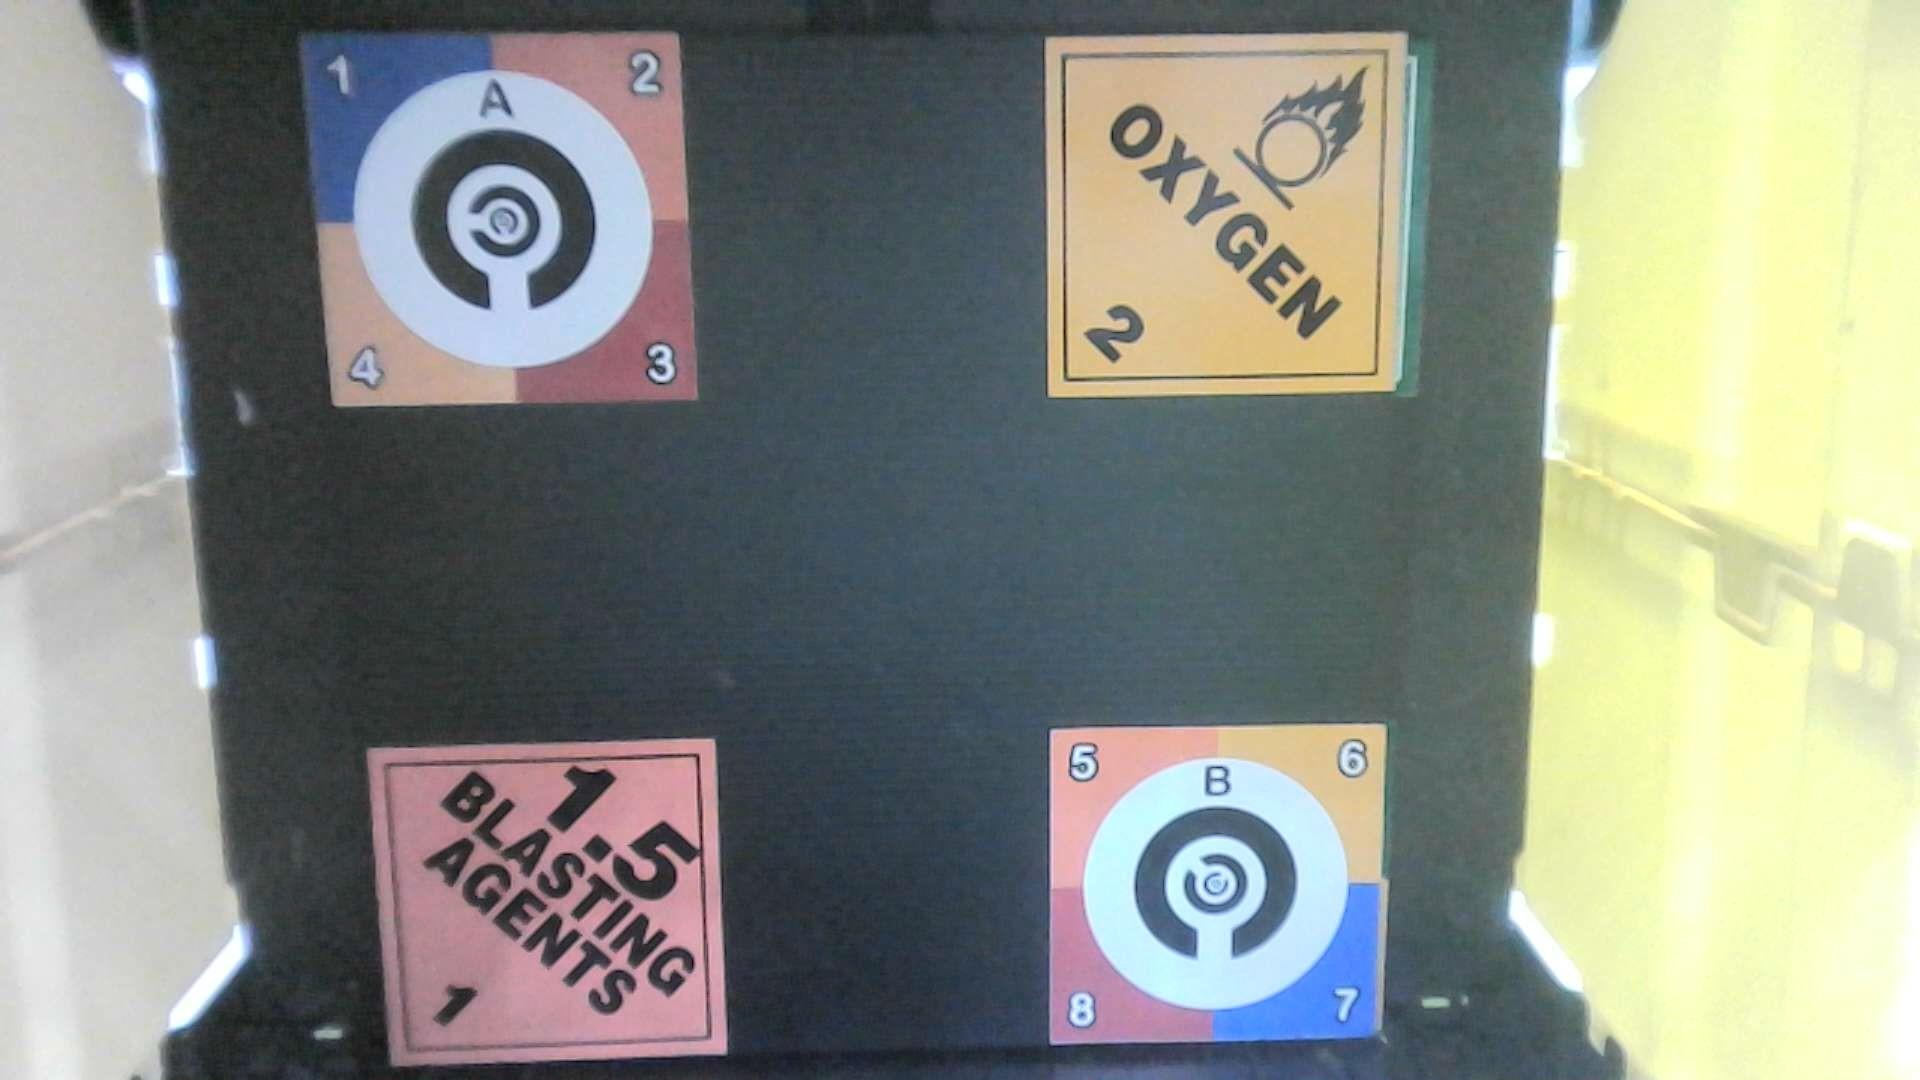explosive: (352, 727, 746, 1080)
oxidizer: (1044, 32, 1424, 397)
